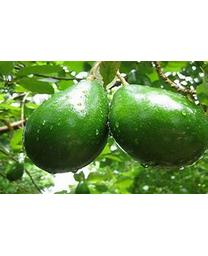avocado: (110, 84, 207, 167), (23, 79, 109, 172)
